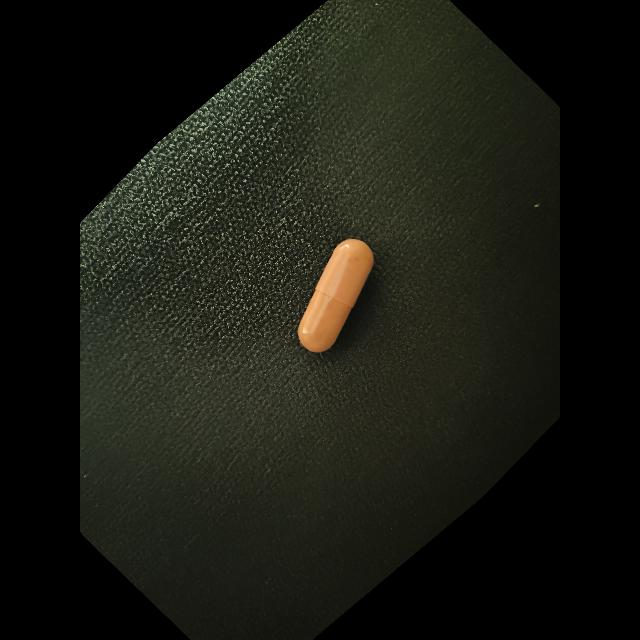Intact Capsule: (298, 239, 374, 352)
